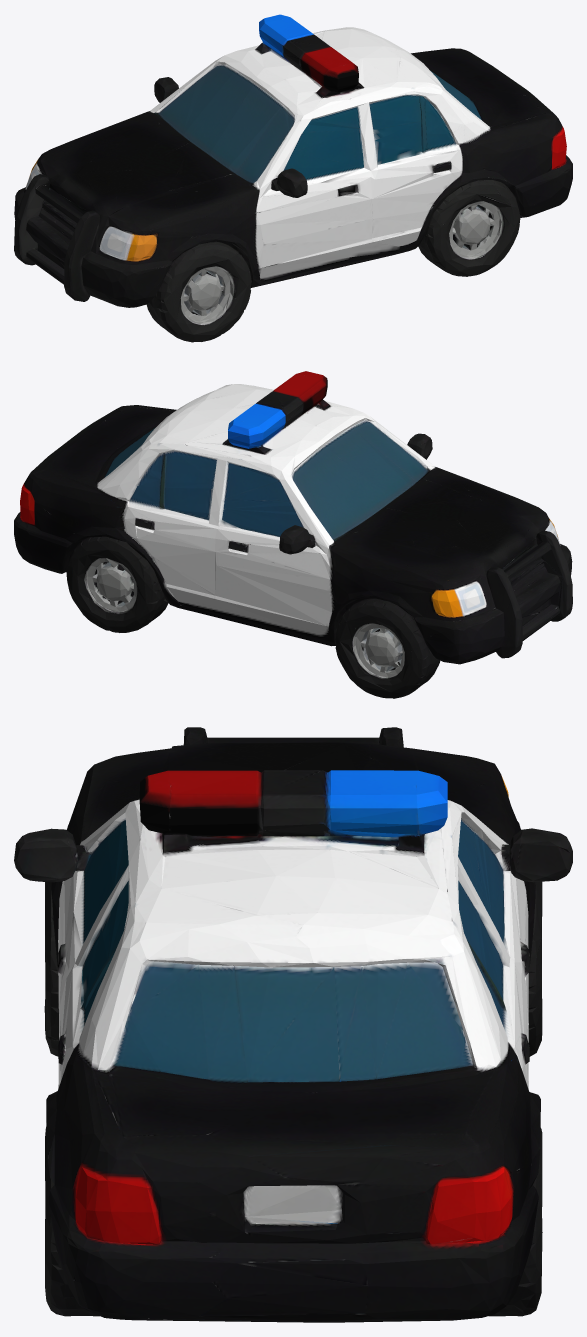
The model's file is police_cruiser.glb.
3 renders of one model, top to bottom at view 1: azimuth 30°, elevation 25°; view 2: azimuth 150°, elevation 25°; view 3: azimuth 270°, elevation 25°, orthographic. The views are drawn at different scales.
Parts seen in each view (by area): view 1: geometry_0; view 2: geometry_0; view 3: geometry_0.
Part boxes in pixels (box(x1,y1,x2,y2)): geometry_0: box(14, 14, 572, 342); geometry_0: box(14, 371, 572, 698); geometry_0: box(14, 727, 572, 1322).
Size of the model in its own units: 1.9 by 0.799 by 0.9575.
1 material, 1 textured.
